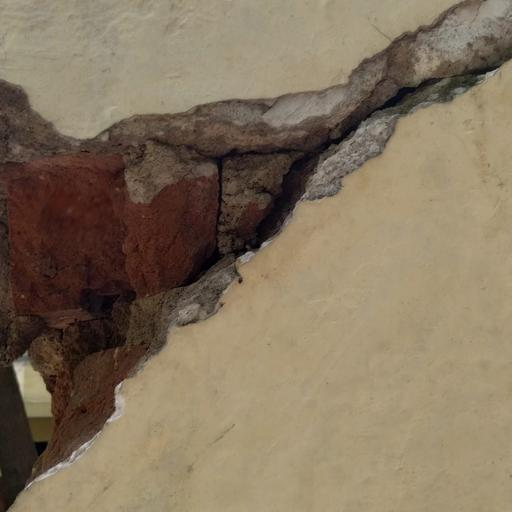spalling: (3, 0, 512, 512)
